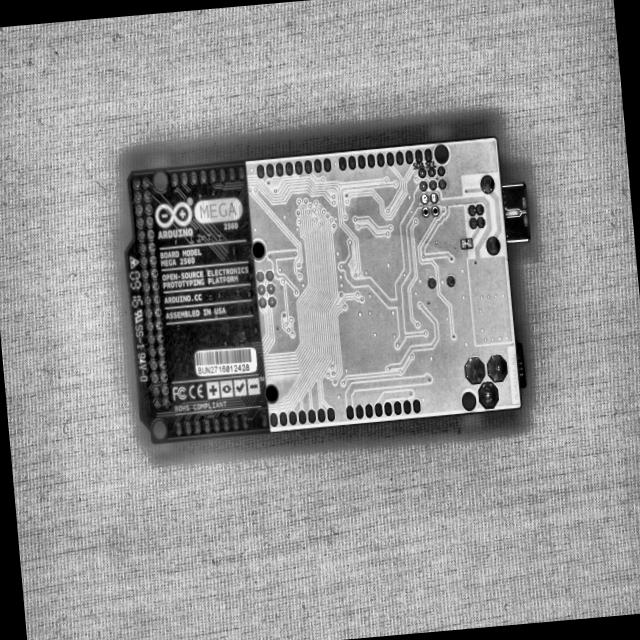PCB: (116, 136, 544, 444)
